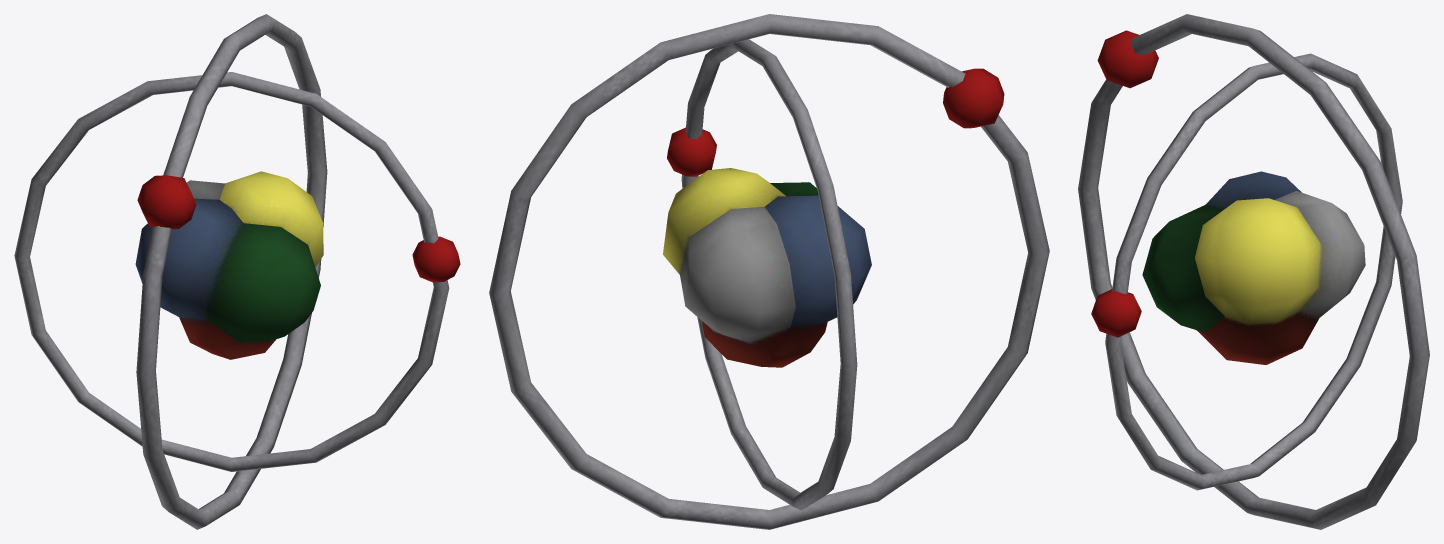
Rendered from infotron_15.obj.
3 views of the same model, side by side, from view 1: azimuth 30°, elevation 25°; view 2: azimuth 150°, elevation 25°; view 3: azimuth 270°, elevation 25° (orthographic). The views are drawn at different scales.
Visible parts, largest first — view 1: unwrapped2, Object09, Object10, Object12, Object11; view 2: Object09, unwrapped2, Object10, Object12, Object11; view 3: unwrapped2, Object09, Object10, Object12, Object11.
Boxes of the visible parts, x1,y1,x2,y2 form: unwrapped2: (135, 171, 323, 359); Object09: (136, 14, 327, 529); Object10: (14, 72, 449, 471); Object12: (137, 175, 196, 229); Object11: (412, 236, 460, 282); Object09: (489, 14, 1049, 529); unwrapped2: (663, 168, 871, 367); Object10: (681, 39, 857, 510); Object12: (943, 68, 1004, 128); Object11: (667, 127, 716, 176); unwrapped2: (1142, 171, 1365, 364); Object09: (1078, 14, 1429, 529); Object10: (1105, 53, 1402, 490); Object12: (1097, 30, 1158, 88); Object11: (1091, 289, 1141, 337).
Size of the model in its own units: 27.27 by 35.32 by 23.15.
1 material, 1 textured.
